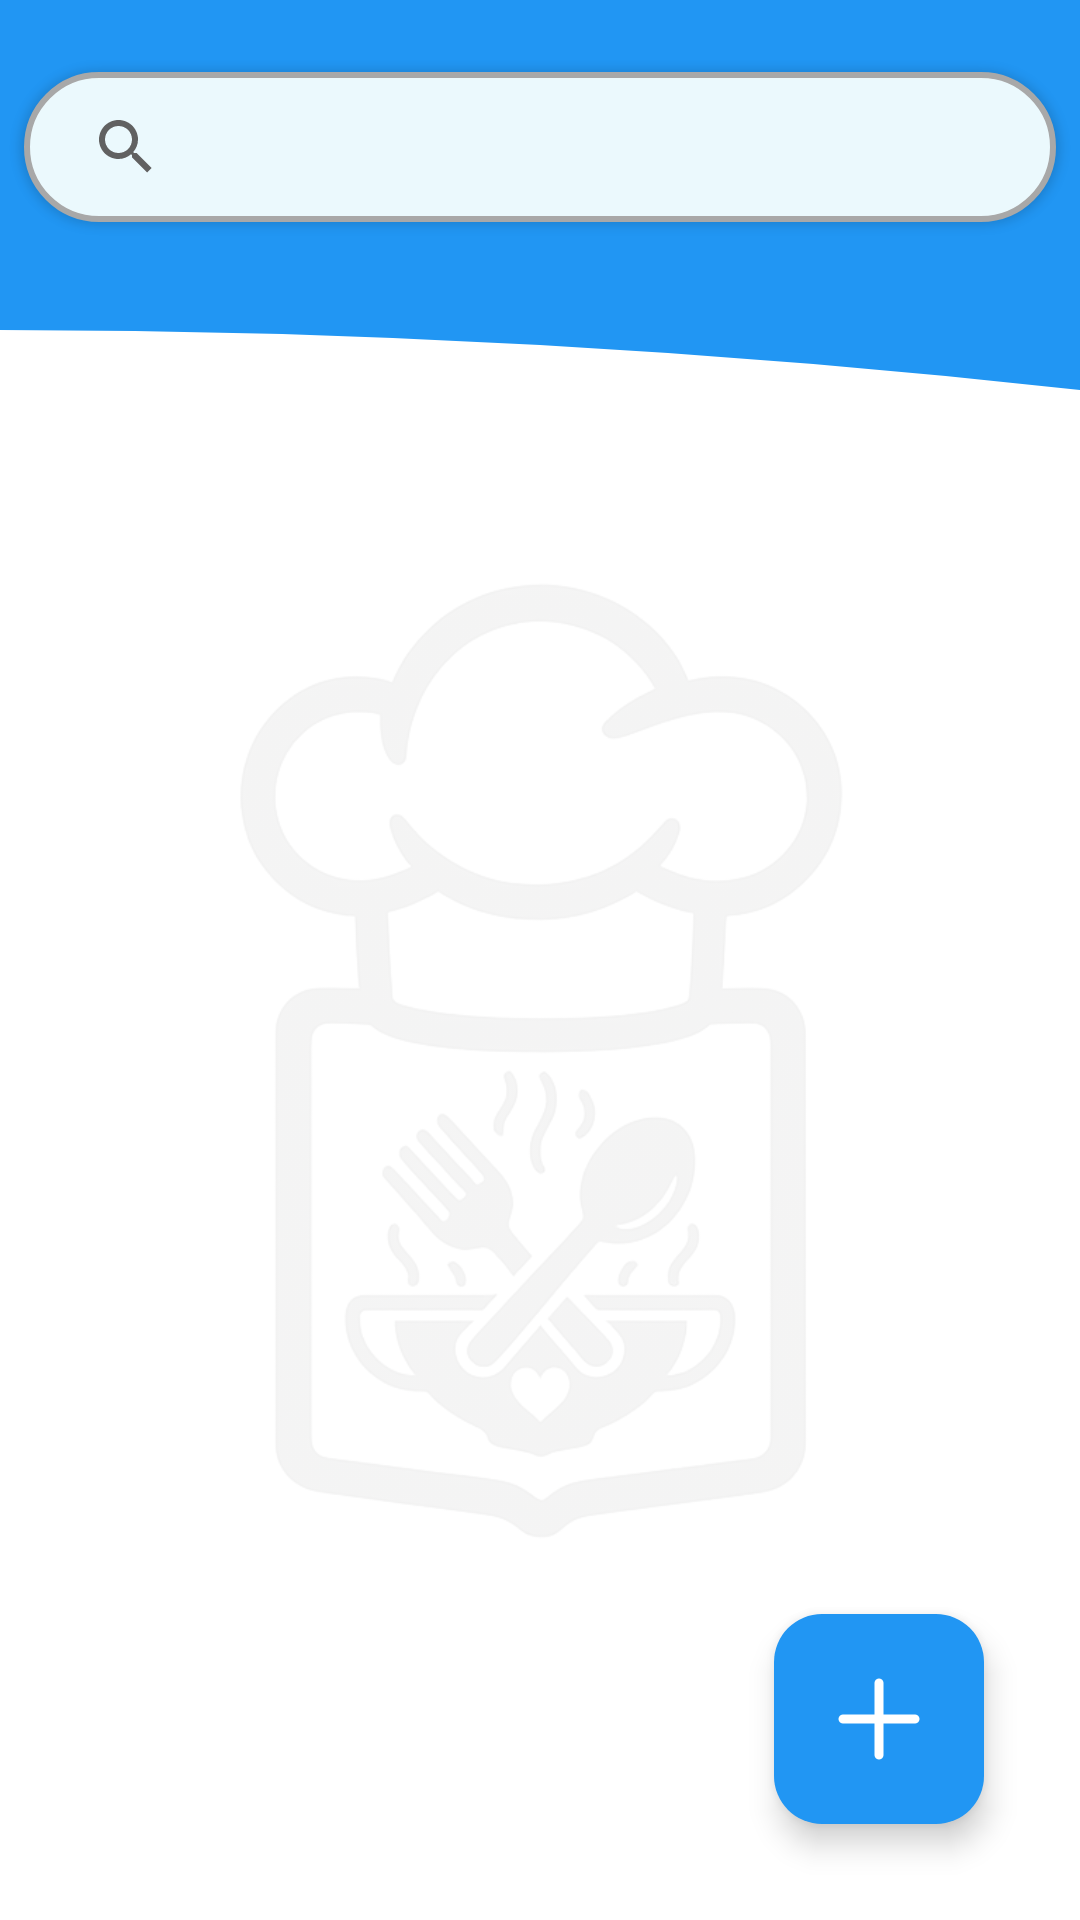

Icons on this 1080w x 1920h Android screen, each with its box as (x1, y1, x2, y2):
Botón nueva receta: (774, 1614, 984, 1824)
